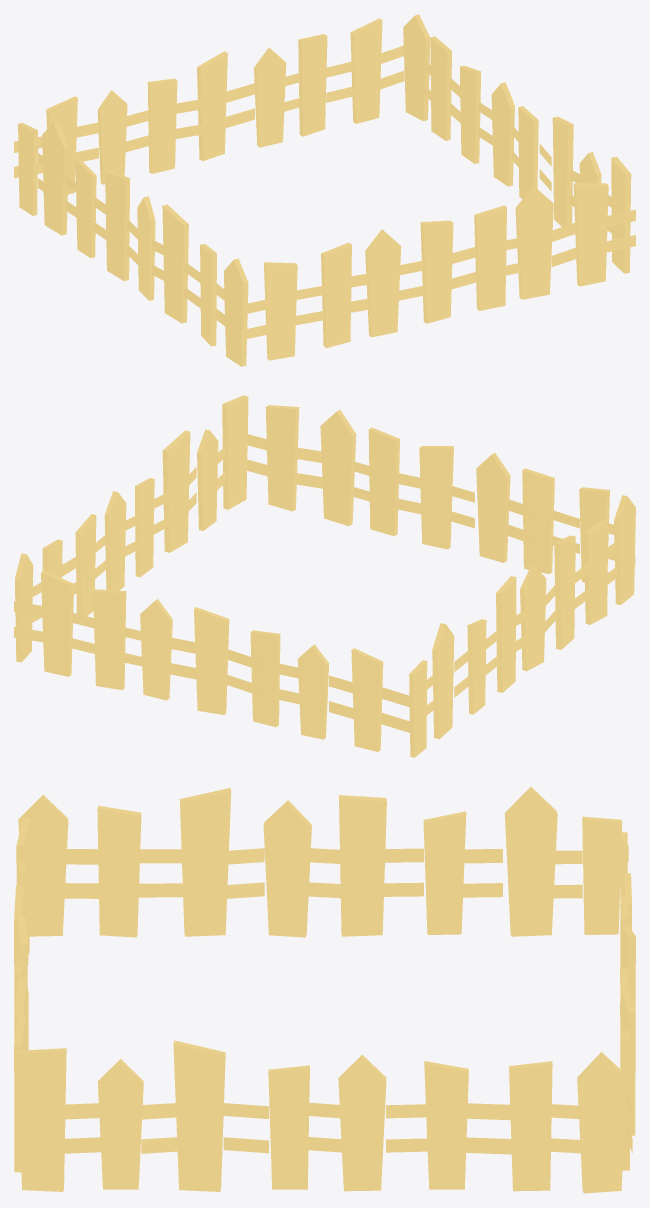
The model's file is pigifarm3.fbx.
3 renders of one model, top to bottom at view 1: azimuth 30°, elevation 25°; view 2: azimuth 150°, elevation 25°; view 3: azimuth 270°, elevation 25°, orthographic. The views are drawn at different scales.
Parts seen in each view (by area): view 1: farm3; view 2: farm3; view 3: farm3.
Part boxes in pixels (bbox=[...]): farm3: bbox=[14, 14, 635, 366]; farm3: bbox=[14, 395, 635, 757]; farm3: bbox=[14, 787, 635, 1193].
Bounding box in the file's own units: 413 × 108 × 412.
